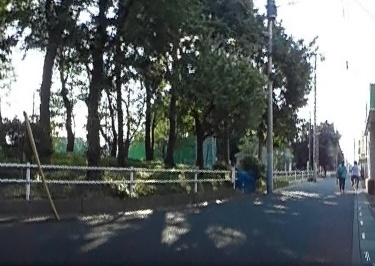person: (335, 160, 347, 191), (349, 159, 360, 187)
